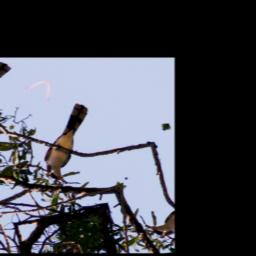Cuckoo: (27, 100, 116, 186)
